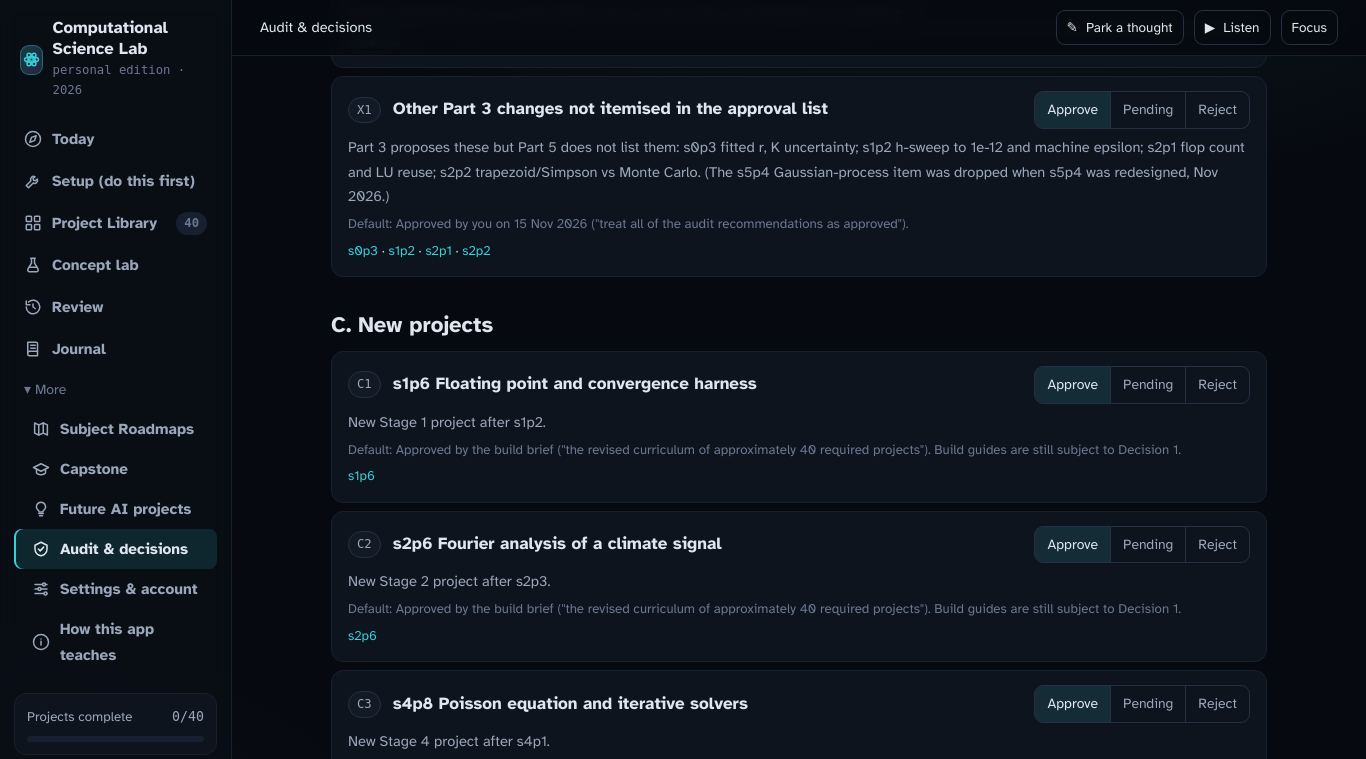
Scenario: audit decisions change the curriculum reversibly › rejecting C1 removes s1p6 and restores it on approve
The width and height of the screenshot is (1366, 759).
(page scrolled)
Click the 2nd button "Reject": [1217, 385] box [1185,367,1249,403]
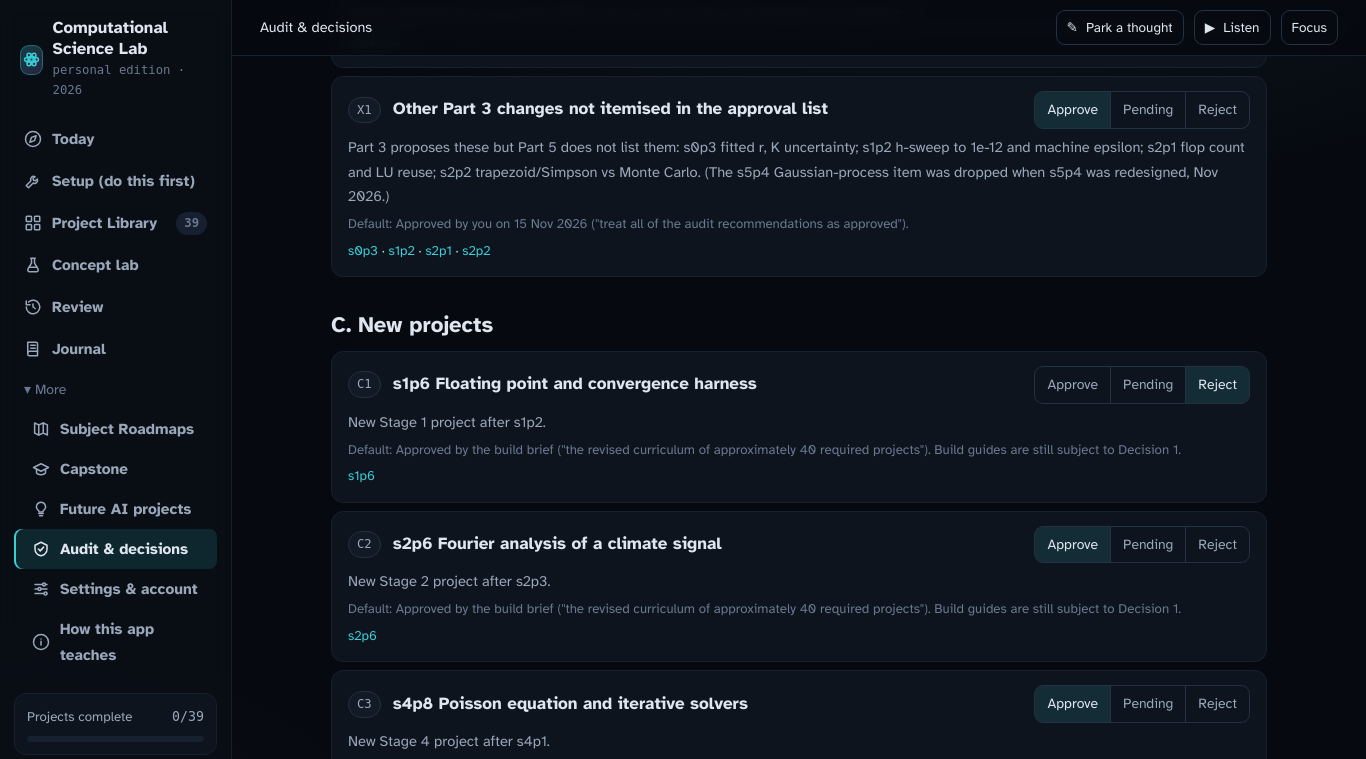
Click the 2nd button "Approve": [1073, 385] box [1035,367,1110,403]
(page scrolled)
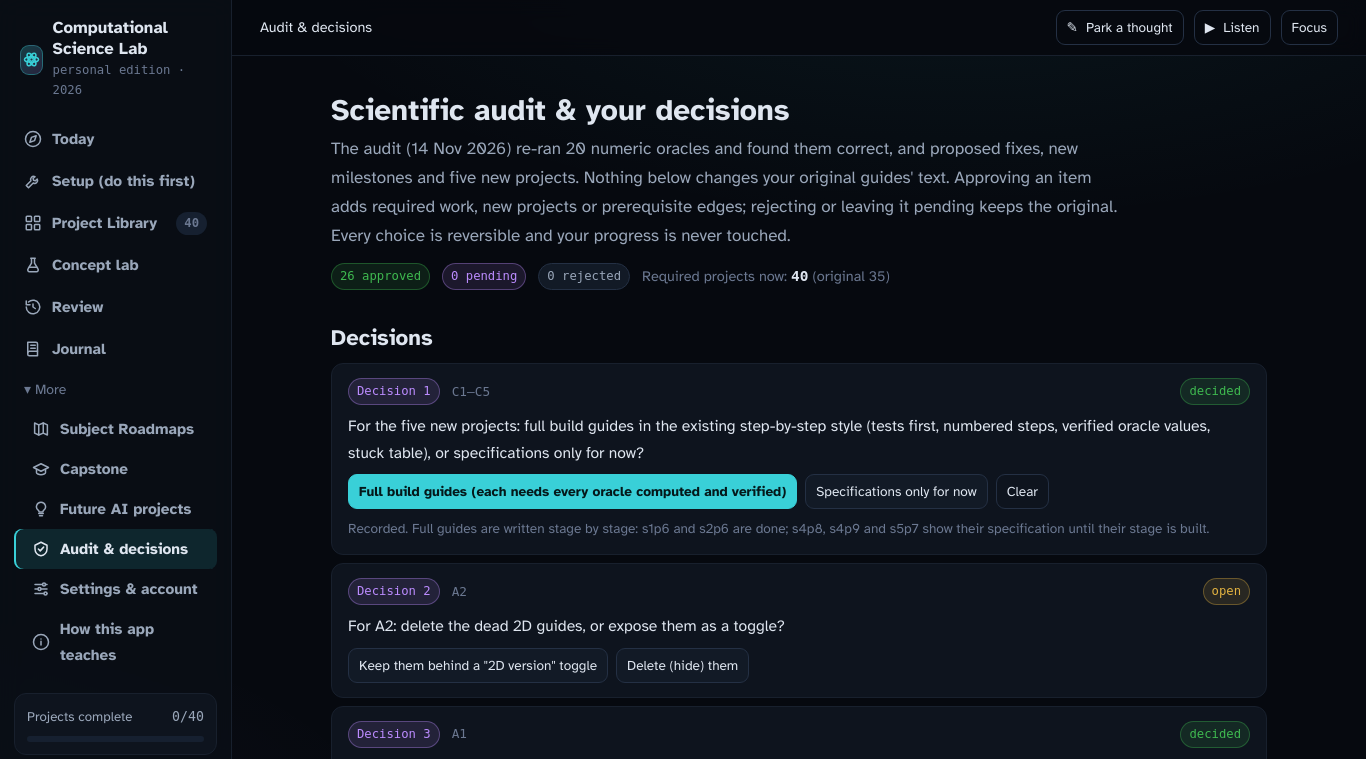
Check: the text "Required projects now: 40 (original 35)" is shown, box [642,264,890,289]
